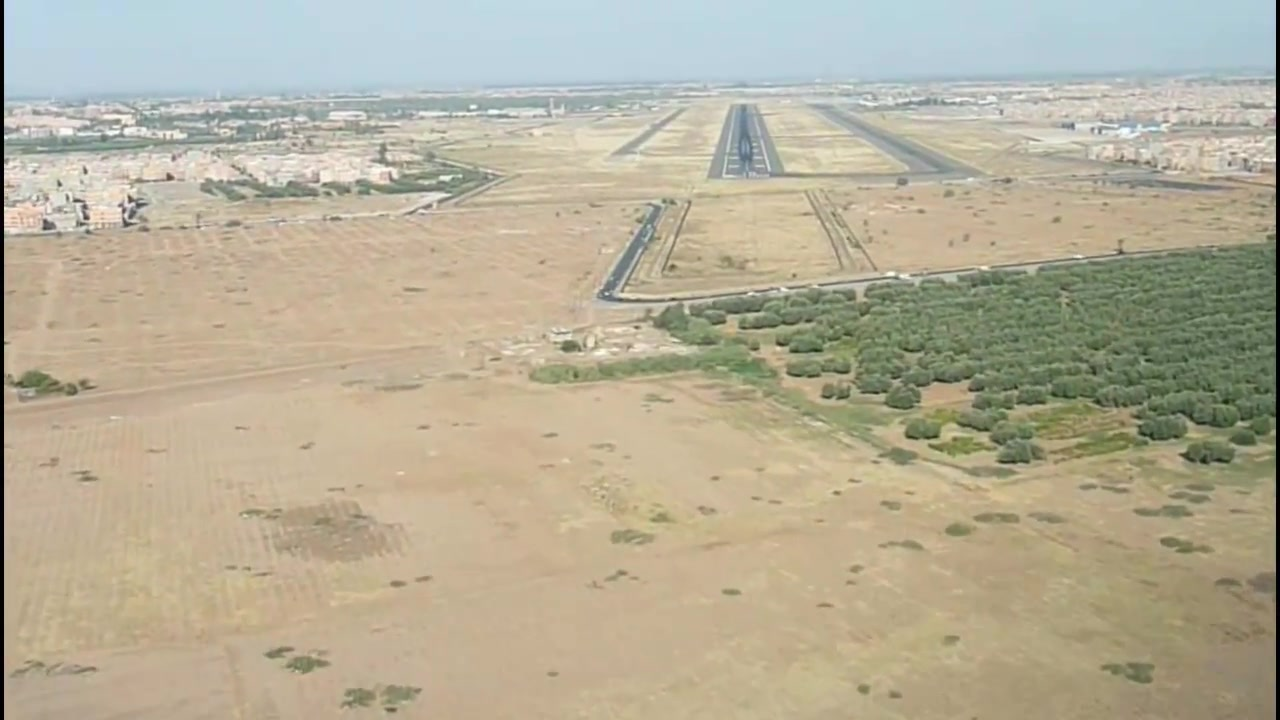runway: (718, 103, 774, 182)
